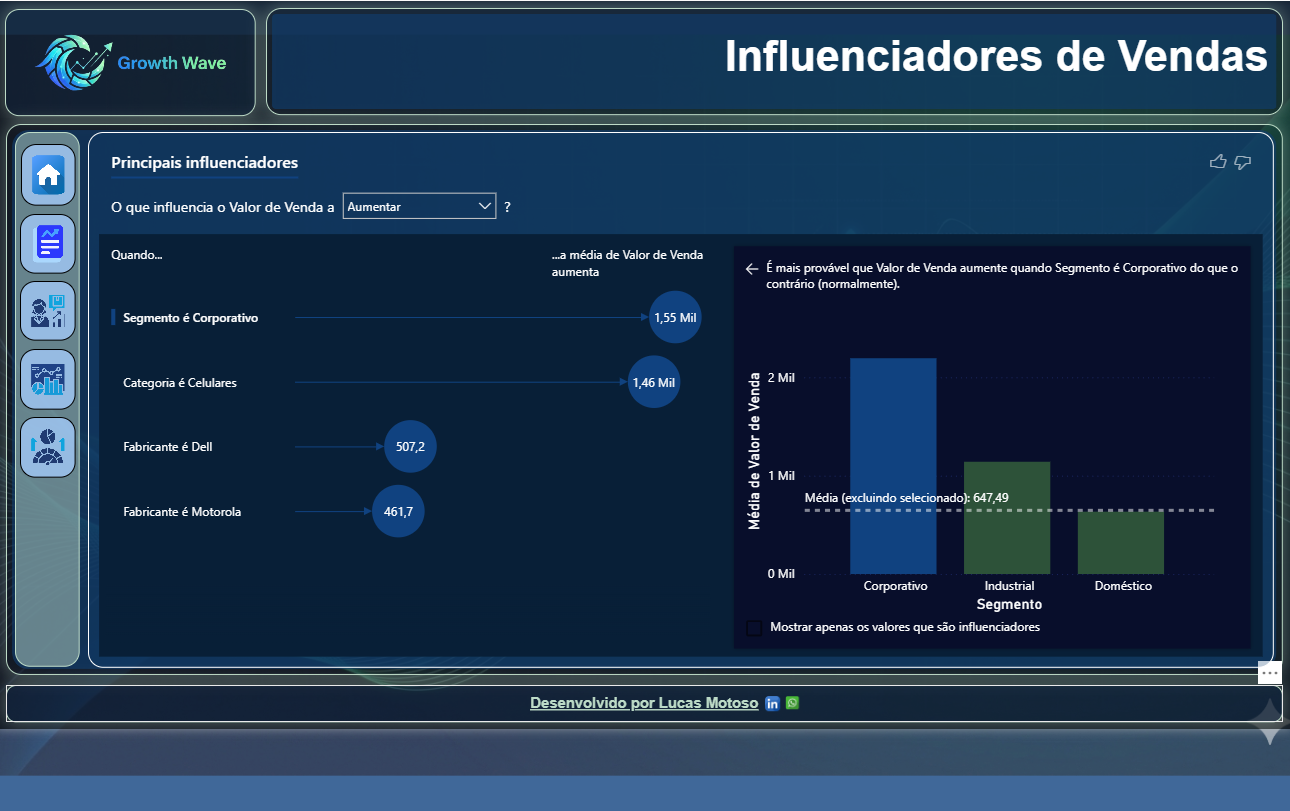

This screenshot's page, from the dashboard's own definition file:
{"tool":"powerbi","page":{"name":"Influenciadores de Vendas","canvas":[1280,720],"ordinal":2},"visuals":[{"type":"image","box":[8,7.9,248.4,105.7],"z":0},{"type":"textbox","box":[8.9,676.9,1262.8,36.6],"z":0,"group":"g1"},{"type":"shape","box":[8.6,121.8,1262.8,545.2],"z":1000},{"type":"image","box":[755.1,682.8,25,25],"z":1000,"group":"g1"},{"type":"shape","box":[265.8,7.4,1005.5,105.8],"z":2000},{"type":"image","box":[774.3,682.1,25,25],"z":2000,"group":"g1"},{"type":"textbox","box":[265.8,25.8,996.9,68.9],"z":3000},{"type":"shape","box":[17.8,129.6,64.3,529.5],"z":4000},{"type":"image","box":[23.3,141.5,54.4,61.4],"z":5000},{"type":"image","box":[22.8,210.3,55.4,59.4],"z":6000},{"type":"image","box":[22.8,277.1,55.4,59.4],"z":7000},{"type":"image","box":[22.8,343.9,55.4,60.4],"z":8000},{"type":"image","box":[22.8,411.7,55.4,60.4],"z":9000},{"type":"group","id":"g1","title":"Grupo 1","box":[8.9,676.9,1262.8,36.6],"z":10000}]}

Visuals, with their boxes on the page's 1280x720 design canvas (x1, y1, x2, y2). These are canvas units, not pixel positions in the 1290x811 screenshot, which may show the page scaled, cropped or inside an application window:
image: <bbox>8, 8, 256, 114</bbox>
textbox: <bbox>9, 677, 1272, 714</bbox>
shape: <bbox>9, 122, 1271, 667</bbox>
image: <bbox>755, 683, 780, 708</bbox>
shape: <bbox>266, 7, 1271, 113</bbox>
image: <bbox>774, 682, 799, 707</bbox>
textbox: <bbox>266, 26, 1263, 95</bbox>
shape: <bbox>18, 130, 82, 659</bbox>
image: <bbox>23, 142, 78, 203</bbox>
image: <bbox>23, 210, 78, 270</bbox>
image: <bbox>23, 277, 78, 336</bbox>
image: <bbox>23, 344, 78, 404</bbox>
image: <bbox>23, 412, 78, 472</bbox>
"Grupo 1" group: <bbox>9, 677, 1272, 714</bbox>
